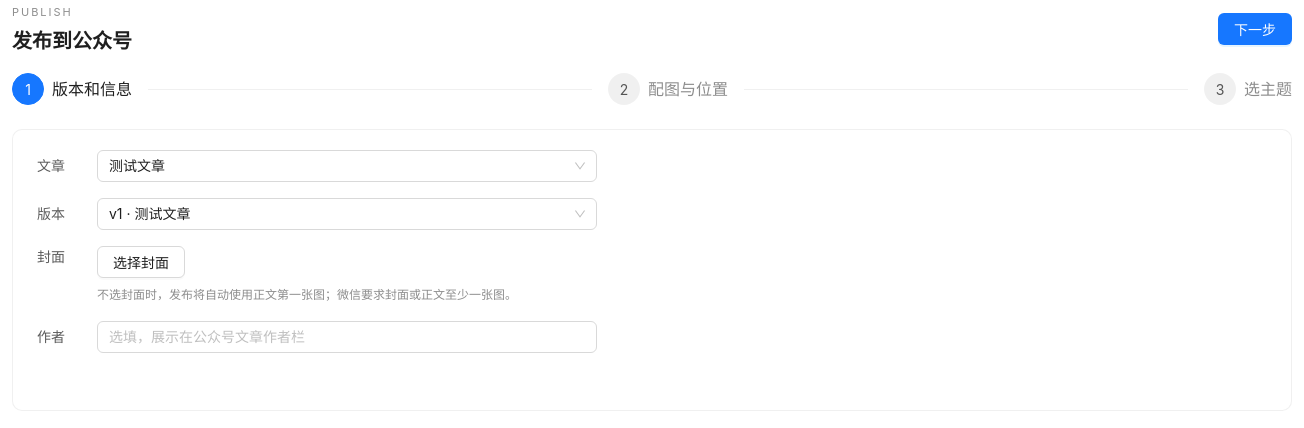
PublishPage 三步向导 › 空正文：画布显示空态，「插入配图」禁用并提示先写正文
The width and height of the screenshot is (1304, 428).
Check: the heading "发布到公众号" is shown, box [12,26,132,57]
Click the button "下一步".
click(1255, 29)  # box [1218,13,1292,45]
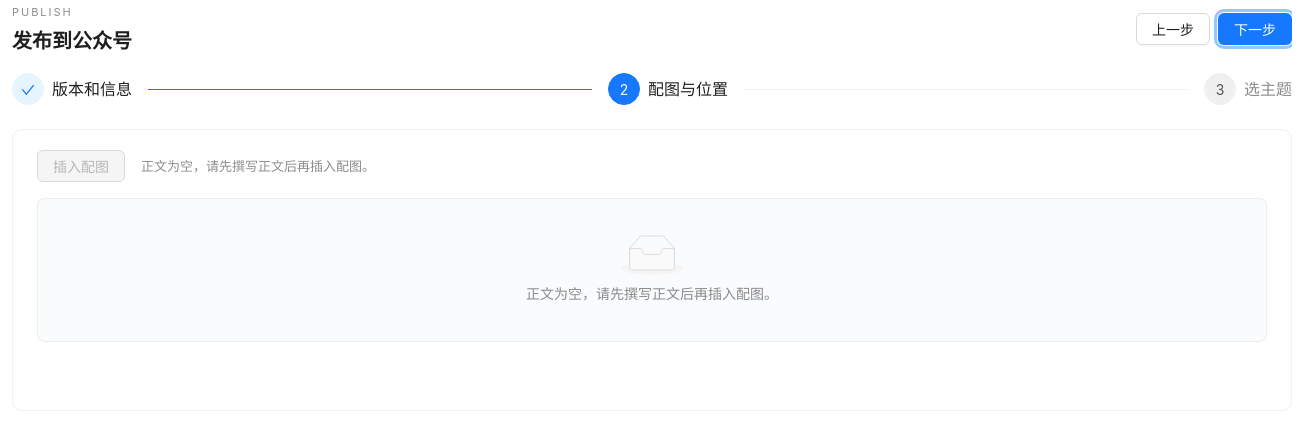
Check: the element named "正文画布" is shown, box [37,198,1267,342]
Check: the button "插入配图" is disabled, box [37,150,125,182]
Check: the 2nd text "正文为空，请先撰写正文后再插入配图。" is shown, box [526,285,778,302]
